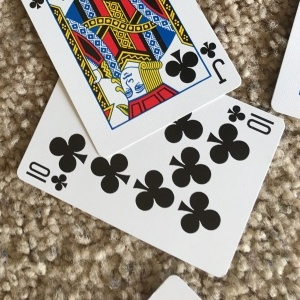card: (15, 101, 285, 278)
